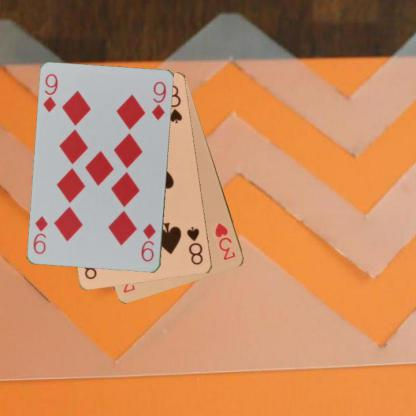3h: (212, 220, 237, 262)
8s: (184, 224, 204, 266)
9d: (40, 71, 60, 114), (139, 221, 157, 263)
